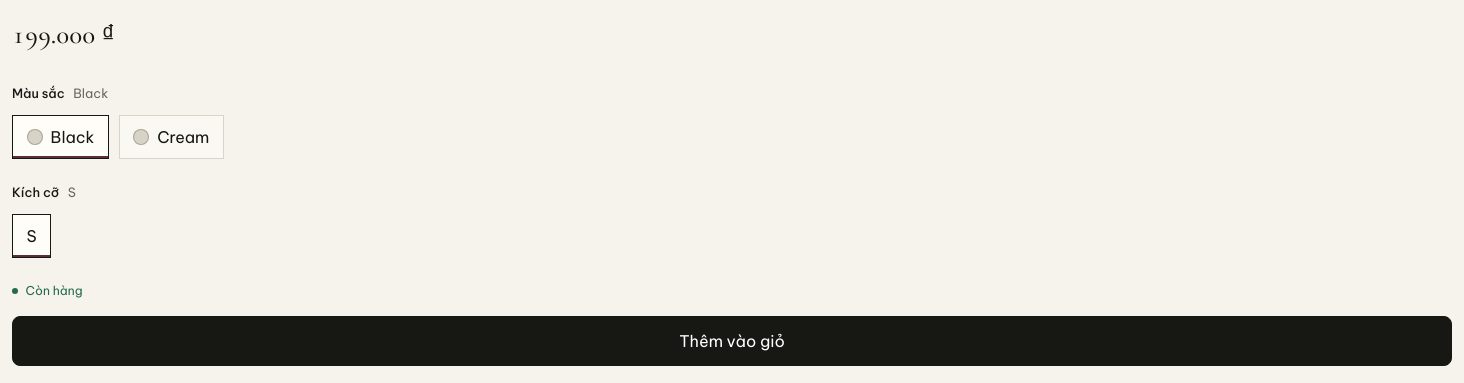
Test: VariantSelector › keeps price and availability aligned with the selected variant
Step 1. Click the button "Cream" → click(171, 137), box [119,115,224,159]
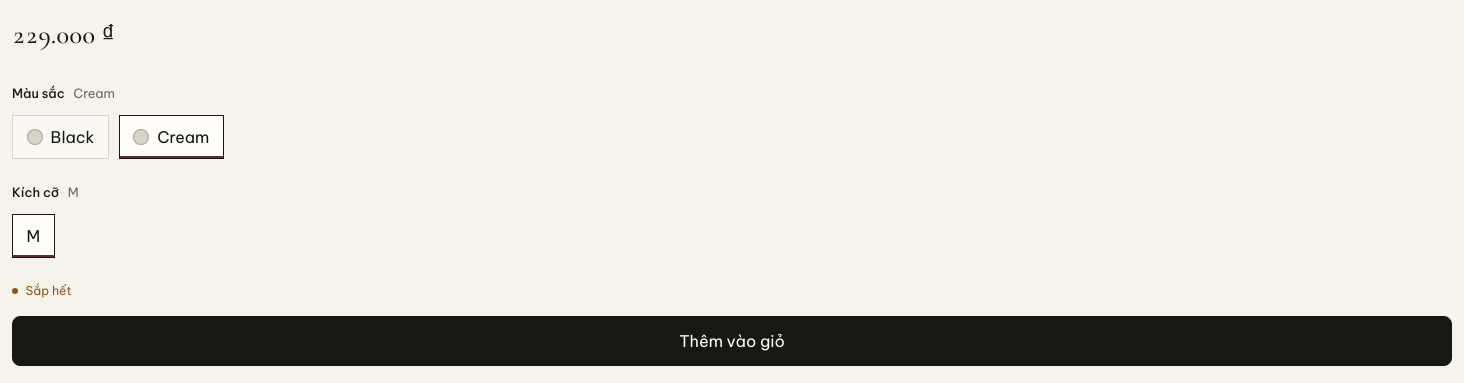
Check: the text "229.000 ₫" is shown, box [12,16,115,56]
Check: the text "Sắp hết" is shown, box [26,283,72,298]
